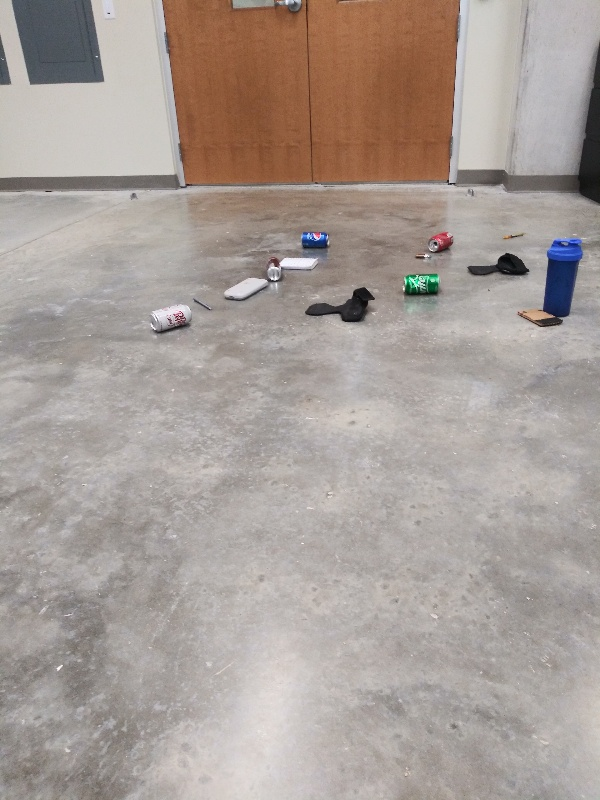can: (144, 302, 195, 336), (401, 272, 442, 298), (299, 229, 332, 252), (426, 231, 456, 254), (263, 255, 284, 283)
